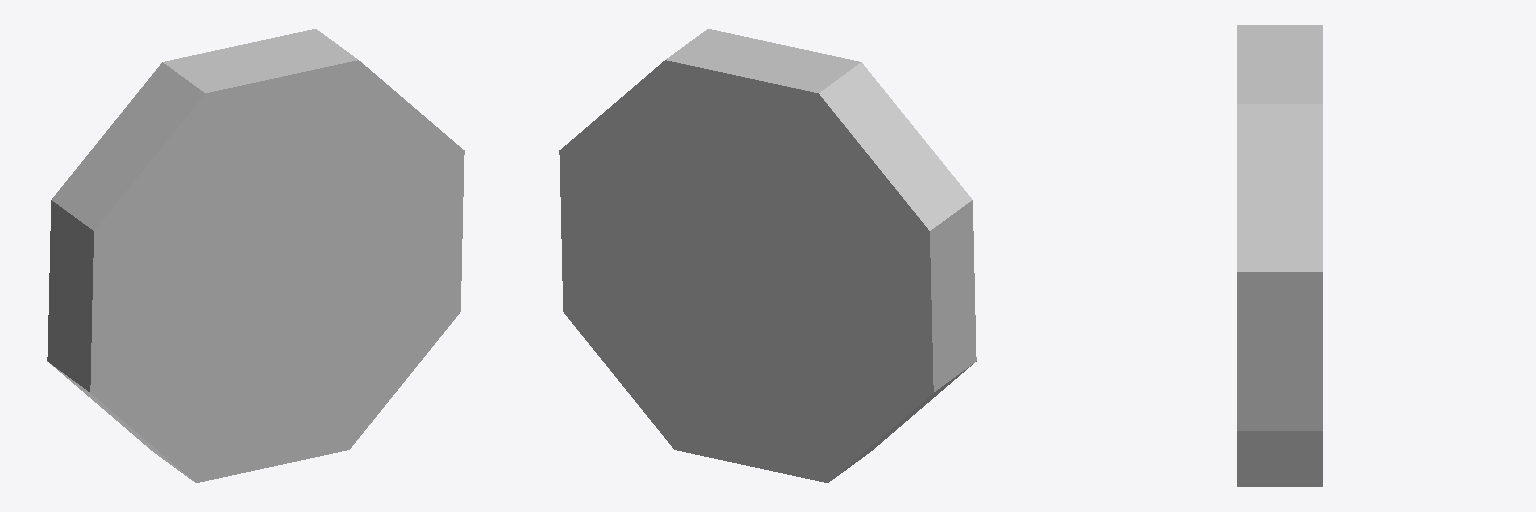
File: rafti_collision_1.obj
3 renders of one model, left to right at view 1: azimuth 30°, elevation 25°; view 2: azimuth 150°, elevation 25°; view 3: azimuth 270°, elevation 25°, orthographic.
Visible parts, largest first — view 1: Cylinder; view 2: Cylinder; view 3: Cylinder.
Part boxes in pixels (x1,y1,x2,y2): Cylinder: (47, 29, 464, 482); Cylinder: (559, 29, 976, 482); Cylinder: (1237, 25, 1322, 486).
Bounding box in the file's own units: 0.0812 × 0.0812 × 0.0161.